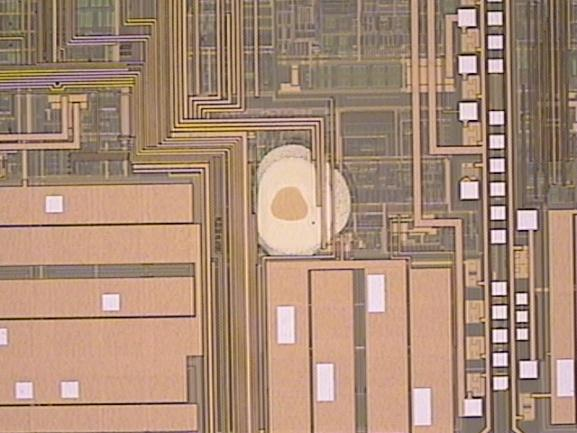BLOCK ETCH: (243, 134, 365, 265)
